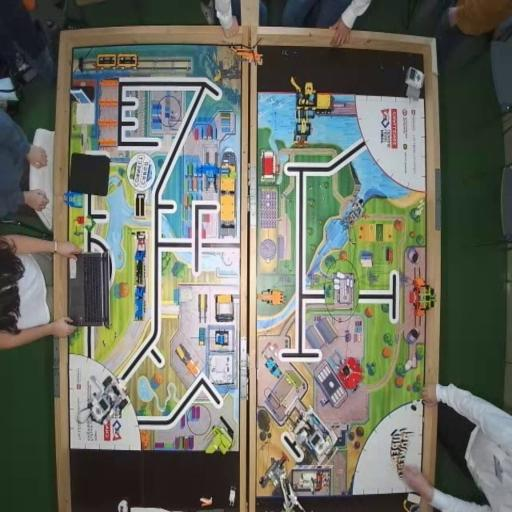lego_robot: (285, 406, 339, 466), (77, 374, 130, 429)
